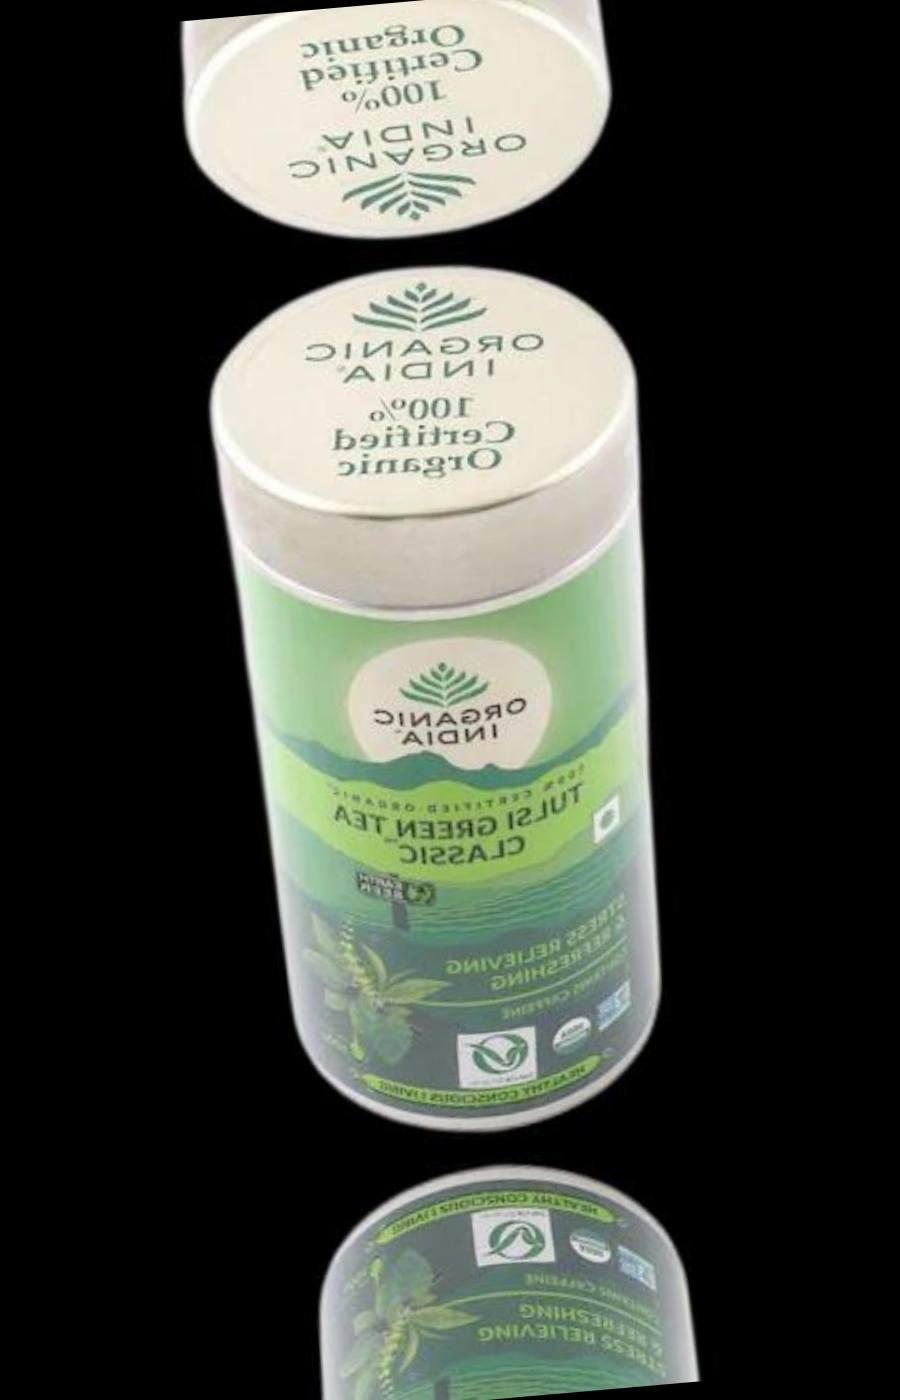Organic India Tulsi Green Tea 100 g: (198, 239, 712, 1156), (174, 0, 634, 263), (277, 1140, 735, 1400)
